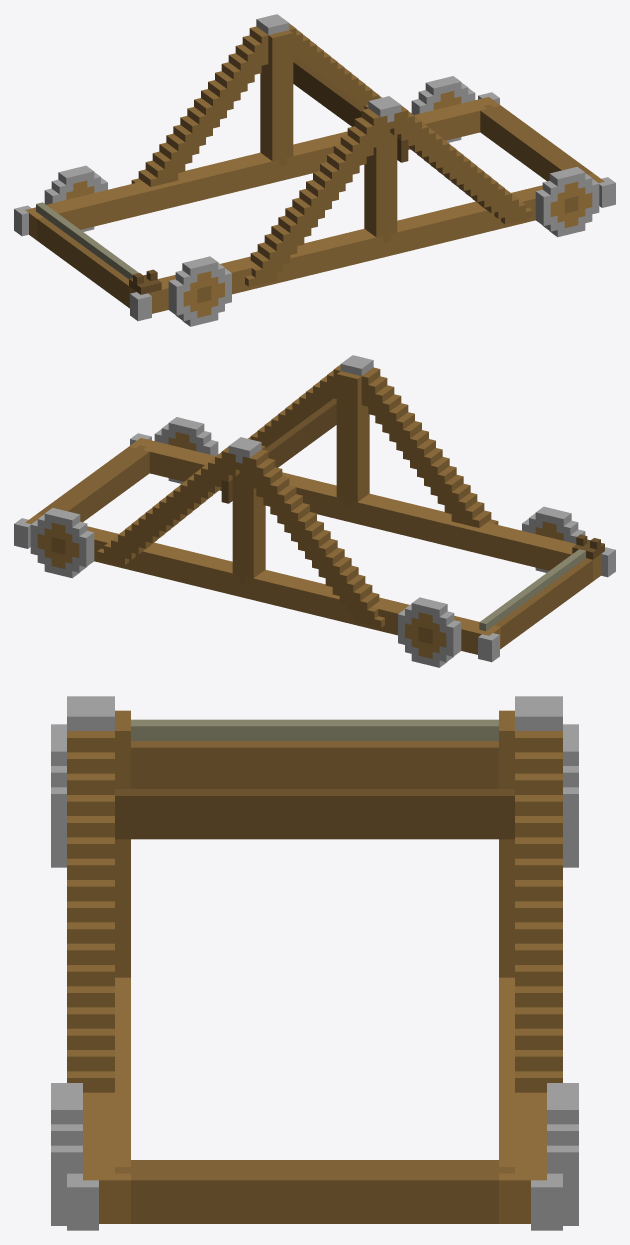
The model's file is Catapult1-3.obj.
3 views of the same model, one above another, from view 1: azimuth 30°, elevation 25°; view 2: azimuth 150°, elevation 25°; view 3: azimuth 270°, elevation 25° (orthographic). The views are drawn at different scales.
Size of the model in its own units: 6.9 by 2.3 by 3.3.
1 material, 1 textured.
